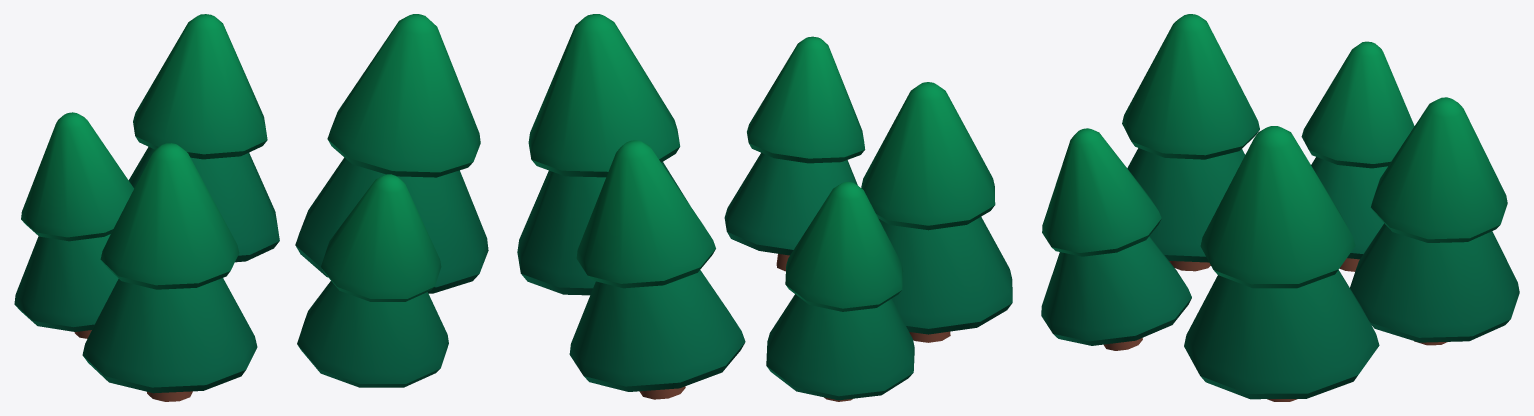
The model's file is kk_grove.glb.
The picture shows the model from 3 angles, left to right: view 1: azimuth 30°, elevation 25°; view 2: azimuth 150°, elevation 25°; view 3: azimuth 270°, elevation 25°; orthographic projection.
Parts seen in each view (by area): view 1: trees_B_medium; view 2: trees_B_medium; view 3: trees_B_medium.
Part boxes in pixels (x1,y1,x2,y2): trees_B_medium: [14, 14, 488, 401]; trees_B_medium: [517, 14, 1012, 401]; trees_B_medium: [1041, 14, 1519, 401].
Size of the model in its own units: 1.86 by 1.17 by 1.83.
